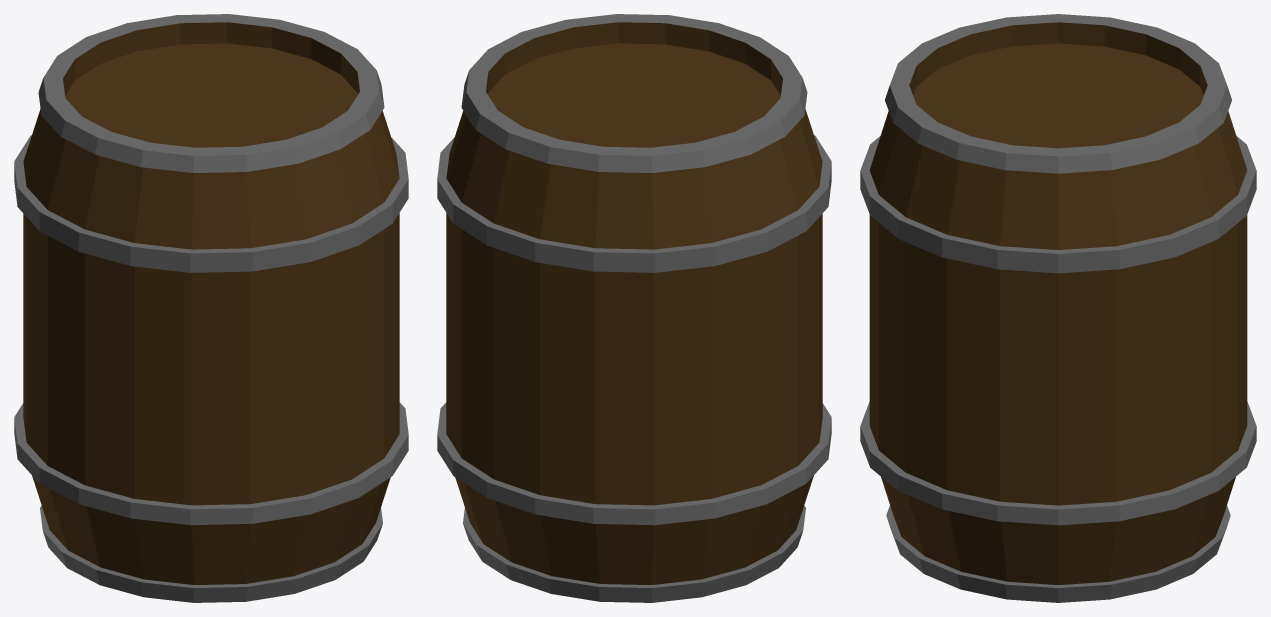
File: tonneau-path_of-matches.fbx
3 renders of one model, left to right at view 1: azimuth 30°, elevation 25°; view 2: azimuth 150°, elevation 25°; view 3: azimuth 270°, elevation 25°, orthographic.
Parts seen in each view (by area): view 1: Cylinder.006; view 2: Cylinder.006; view 3: Cylinder.006.
Boxes of the visible parts, x1,y1,x2,y2 form: Cylinder.006: (14, 14, 408, 602); Cylinder.006: (437, 14, 831, 602); Cylinder.006: (860, 14, 1256, 602).
Bounding box in the file's own units: 210 × 261 × 210.
